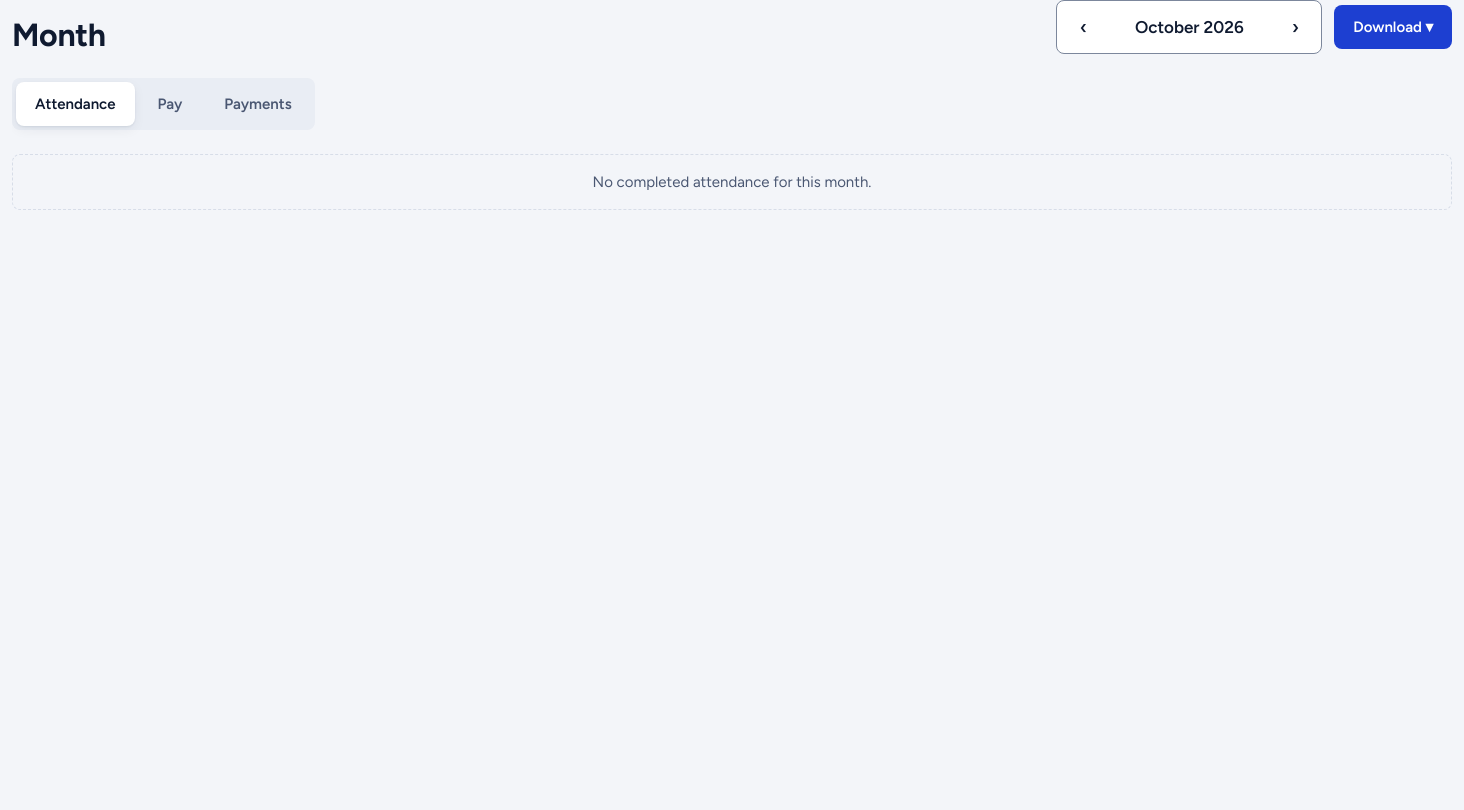
Month · Payments › shows the alert, the four totals and each person with their worst-case stamp
The width and height of the screenshot is (1464, 810).
Click the button "Payments": (258, 104) [205,82,311,126]
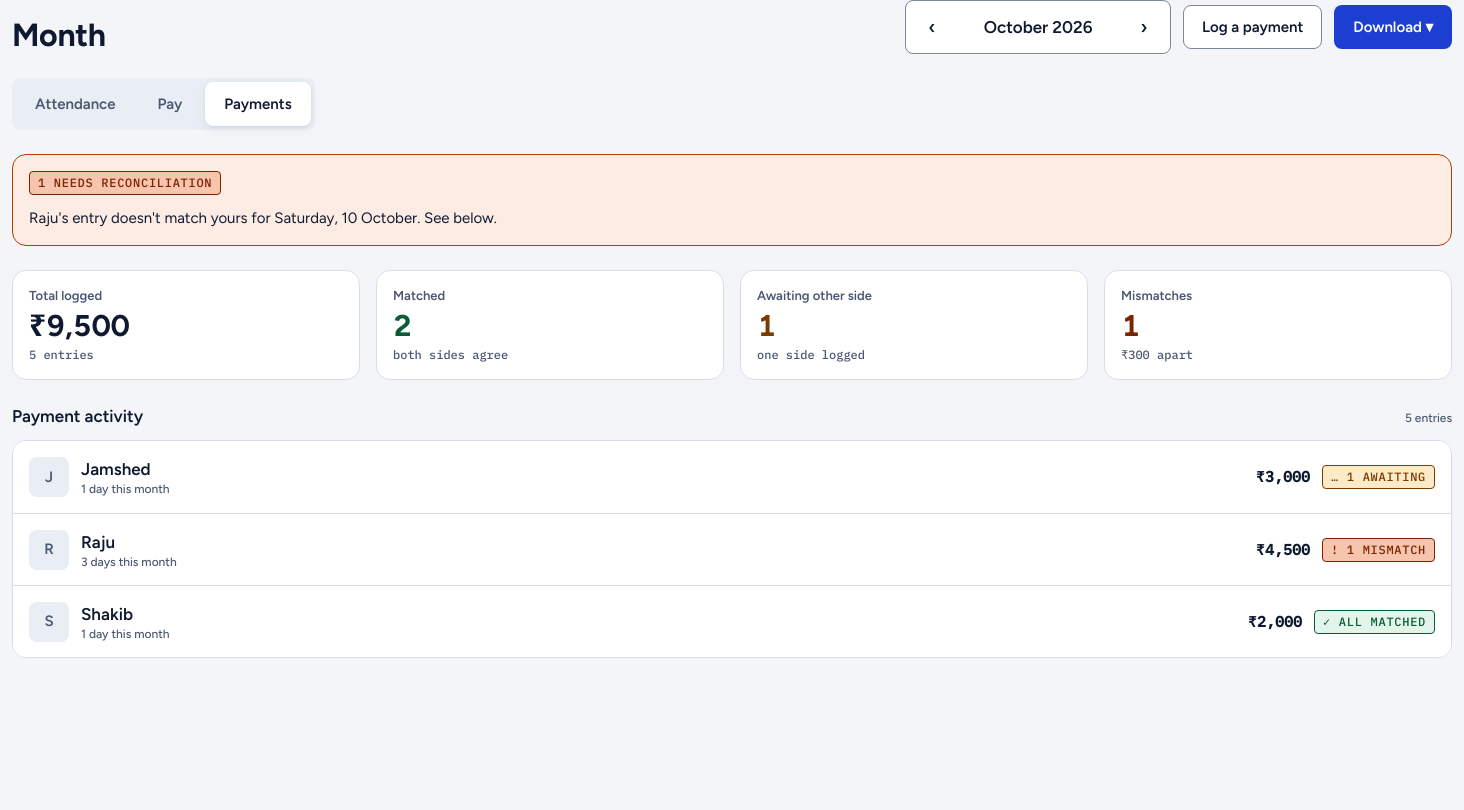
expect the text "1 needs reconciliation" is shown: met, box [29,171,221,195]
expect the text "Raju's entry doesn't match yours for Saturday, 10 October. See below." is shown: met, box [29,207,497,229]
expect the text "₹9,500" is shown: met, box [29,307,130,344]
